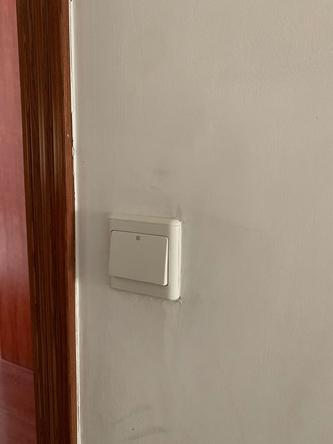switch: (109, 227, 173, 291)
